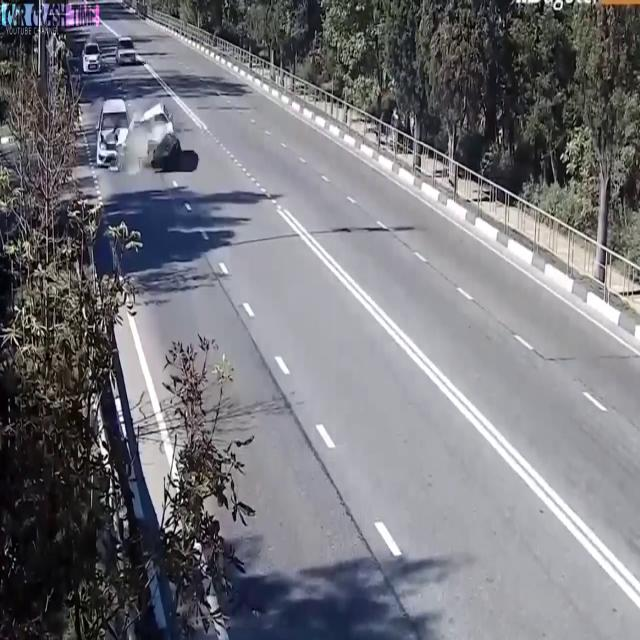accident: (93, 93, 180, 175)
